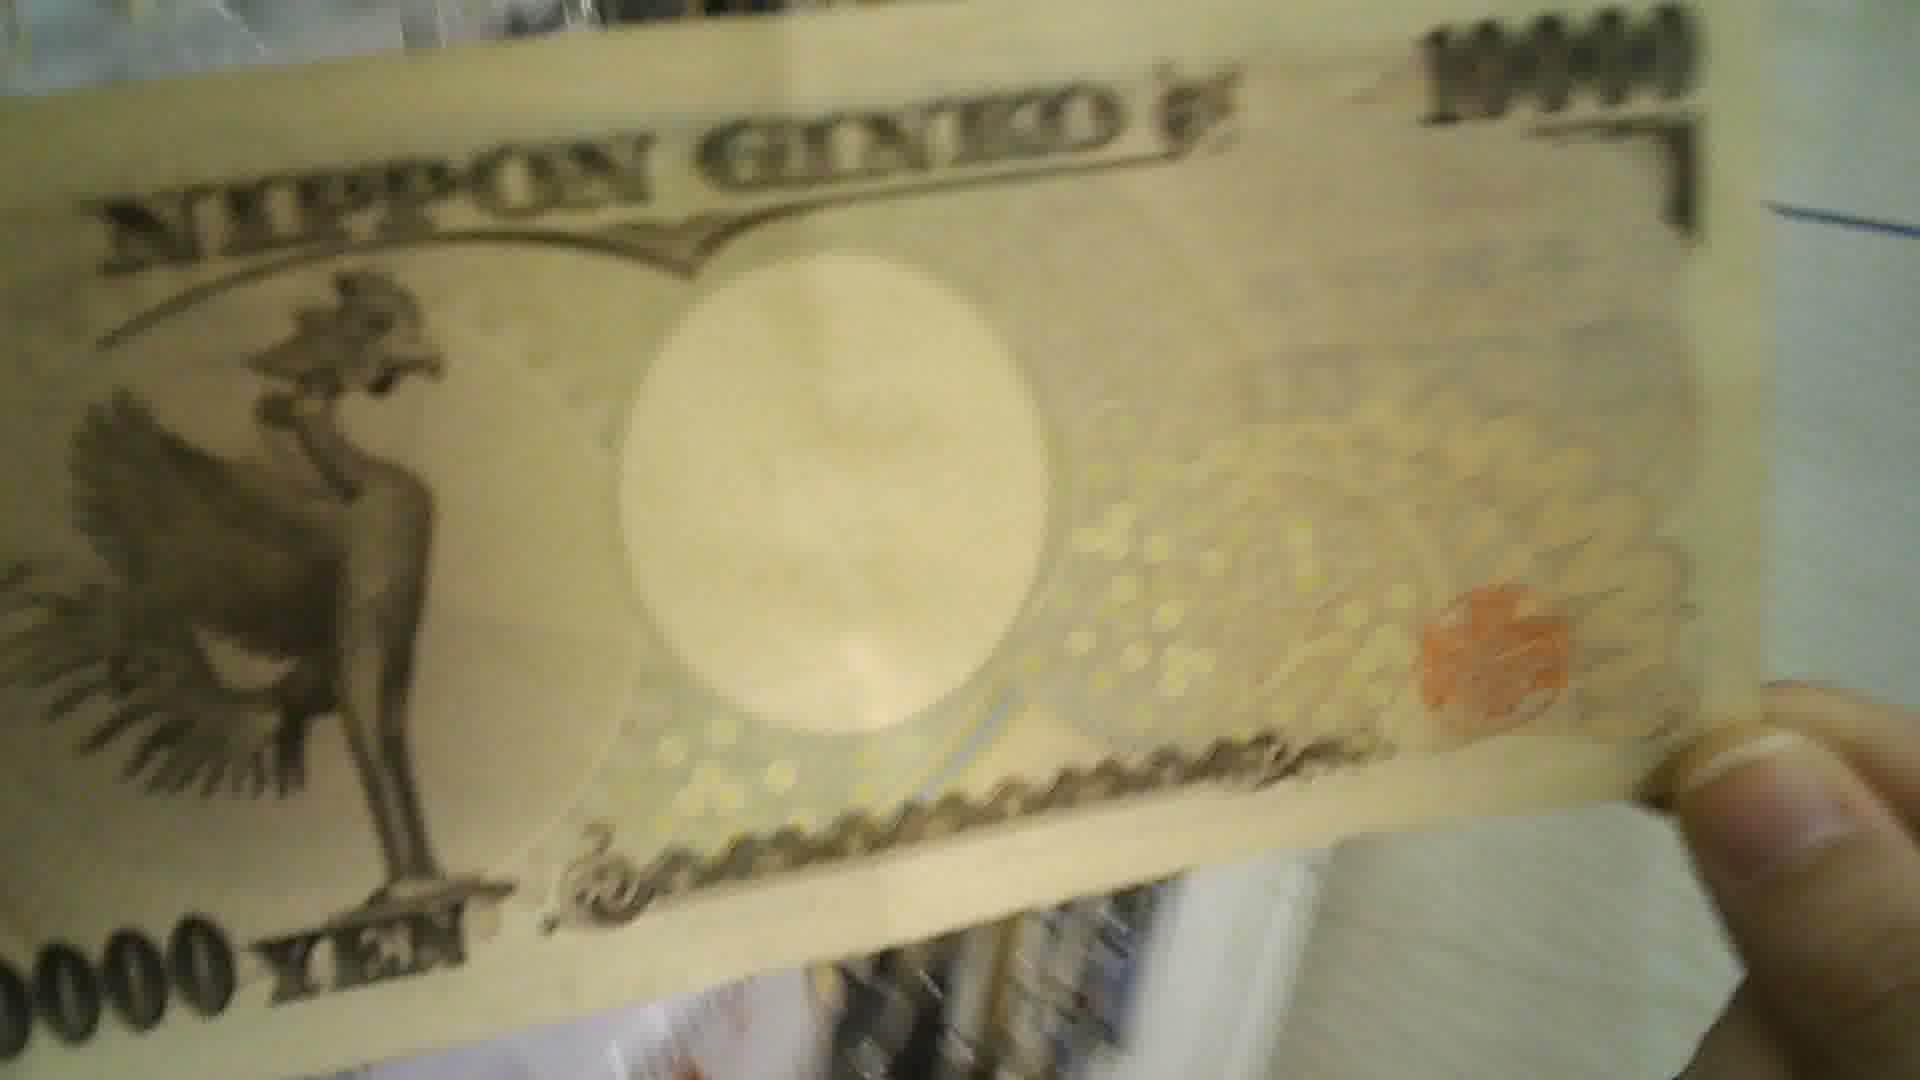10,000 Yen: (69, 15, 1764, 1044)
